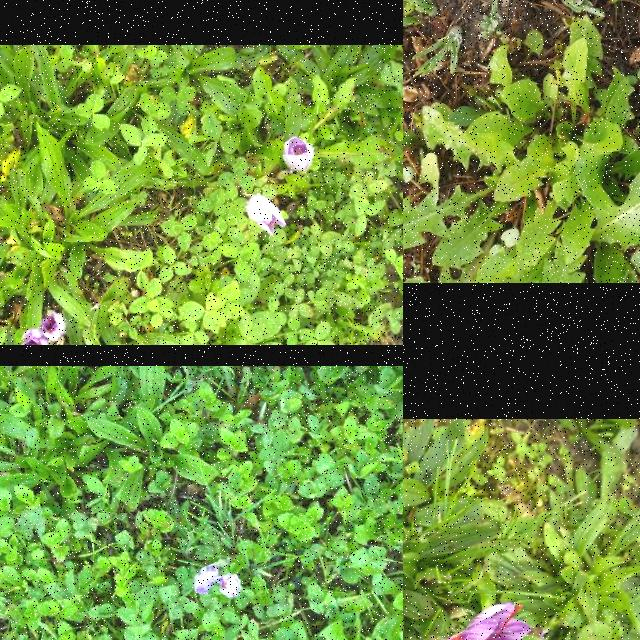flower: (461, 602, 551, 640), (246, 194, 288, 236), (282, 136, 314, 172), (41, 311, 68, 343), (194, 566, 218, 596), (220, 574, 242, 598), (18, 328, 48, 345)
